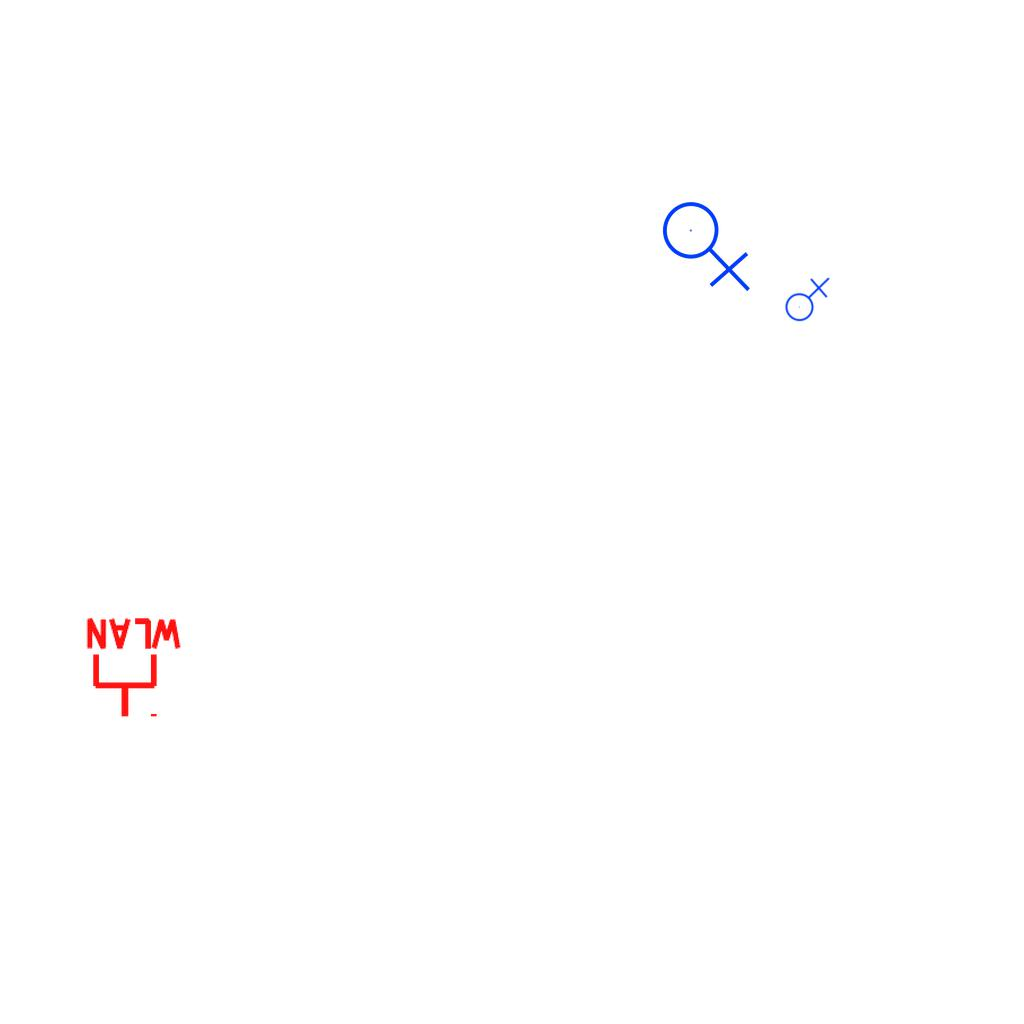Elektroanschluss_allgemein_230V_Geraeteanschlussdose_230V: (661, 193, 755, 292), (781, 275, 830, 322)
WLAN: (82, 616, 186, 721)
